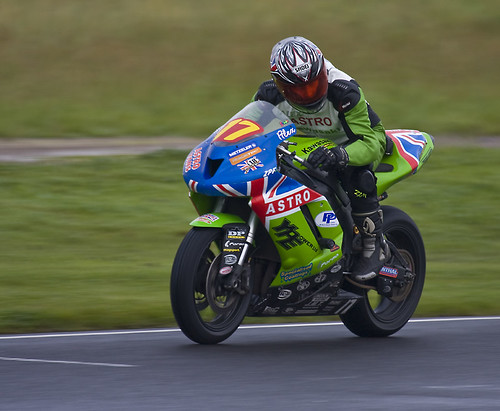helmet: (264, 35, 334, 106)
